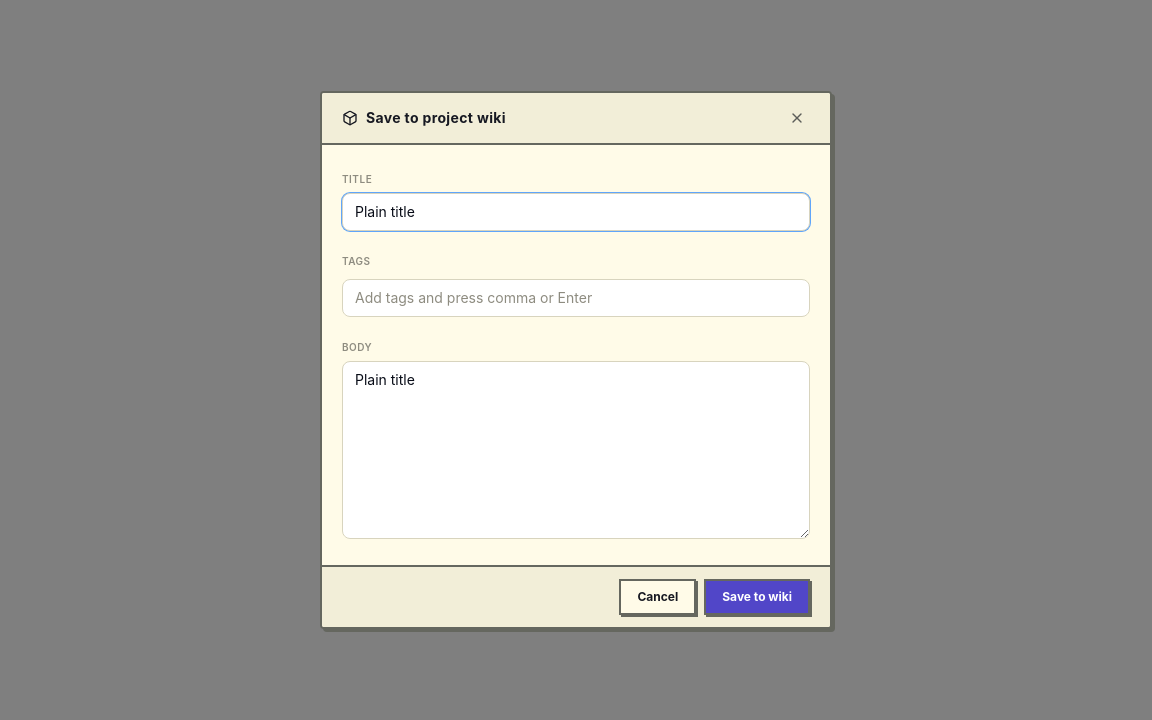
SaveToWikiModal › shows inline error when save fails
This screenshot has width=1152, height=720.
Click the button "Save to wiki" at (757, 597), box [704,579,810,615]
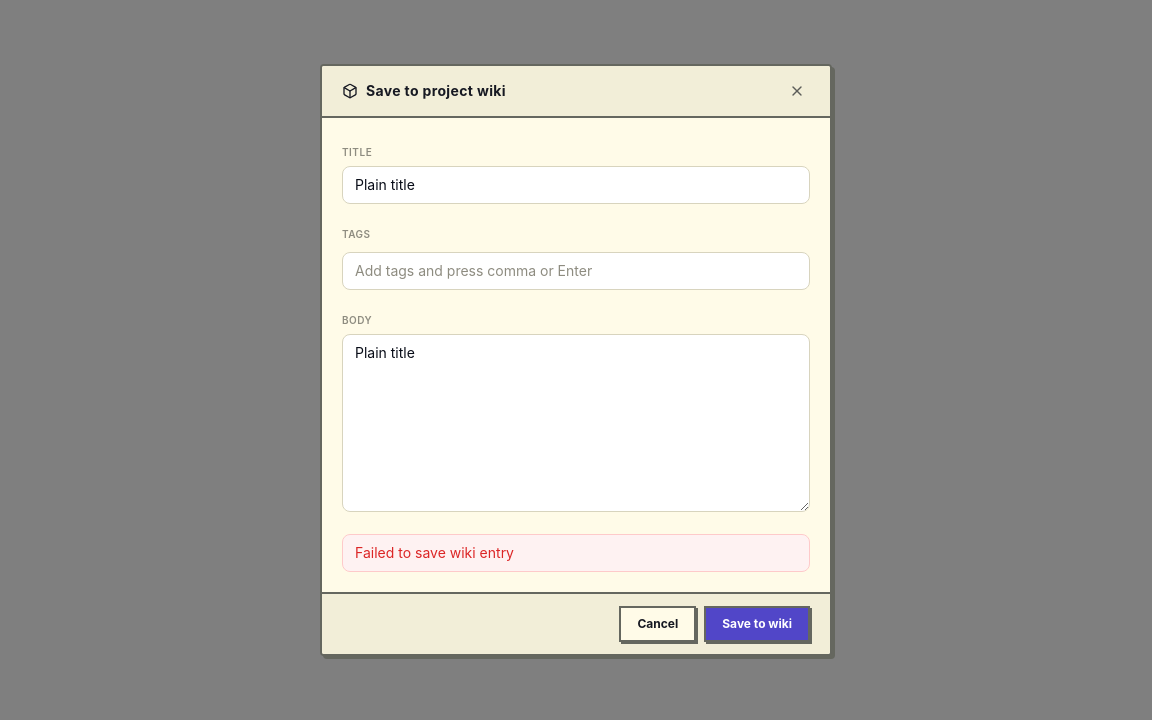
expect the text "Failed to save wiki entry" is shown: met, box [342,534,810,572]
